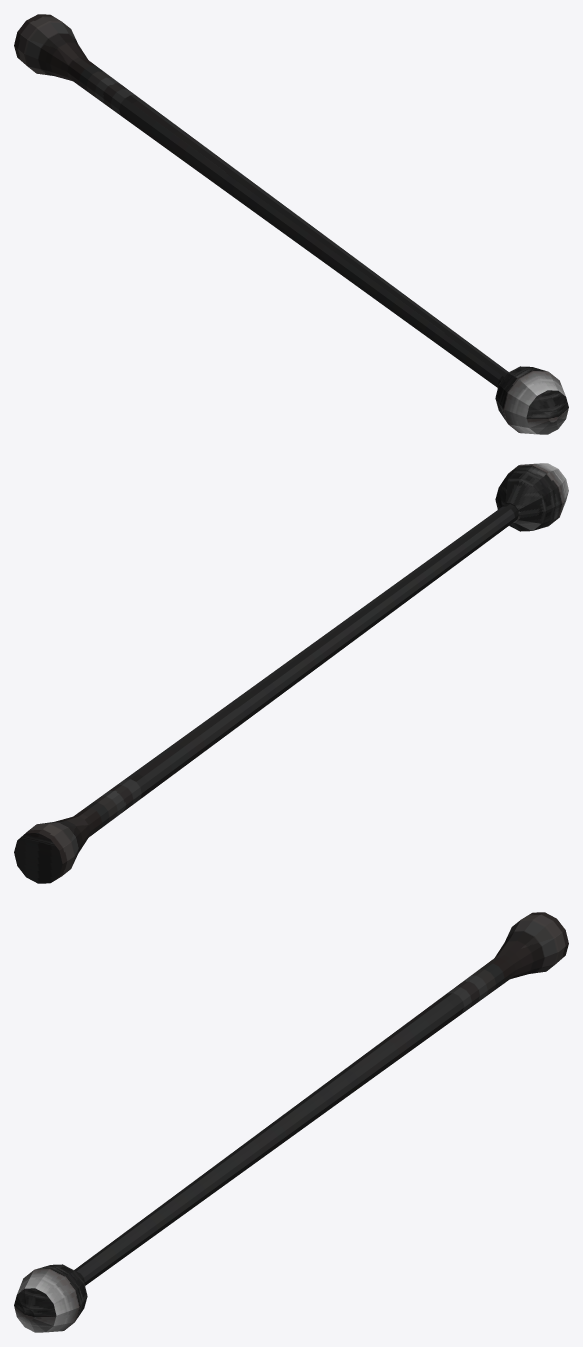
Rendered from pz_street_pole_01.obj.
The picture shows the model from 3 angles, top to bottom: view 1: azimuth 30°, elevation 25°; view 2: azimuth 150°, elevation 25°; view 3: azimuth 330°, elevation 25°; orthographic projection.
Parts seen in each view (by area): view 1: pz_street_pole_01_|_tapered_native_street_pole, pz_street_pole_01_|_native_rounded_lamp_globe; view 2: pz_street_pole_01_|_tapered_native_street_pole, pz_street_pole_01_|_native_rounded_lamp_globe; view 3: pz_street_pole_01_|_tapered_native_street_pole, pz_street_pole_01_|_native_rounded_lamp_globe.
Boxes of the visible parts, x1=… form: pz_street_pole_01_|_tapered_native_street_pole: x1=14, y1=14, x2=508, y2=387; pz_street_pole_01_|_native_rounded_lamp_globe: x1=495, y1=366, x2=568, y2=434; pz_street_pole_01_|_tapered_native_street_pole: x1=14, y1=504, x2=518, y2=883; pz_street_pole_01_|_native_rounded_lamp_globe: x1=495, y1=463, x2=568, y2=531; pz_street_pole_01_|_tapered_native_street_pole: x1=74, y1=912, x2=568, y2=1285; pz_street_pole_01_|_native_rounded_lamp_globe: x1=14, y1=1264, x2=87, y2=1332.
Size of the model in its own units: 0.174 by 0.174 by 2.6.
2 materials, 2 textured.
